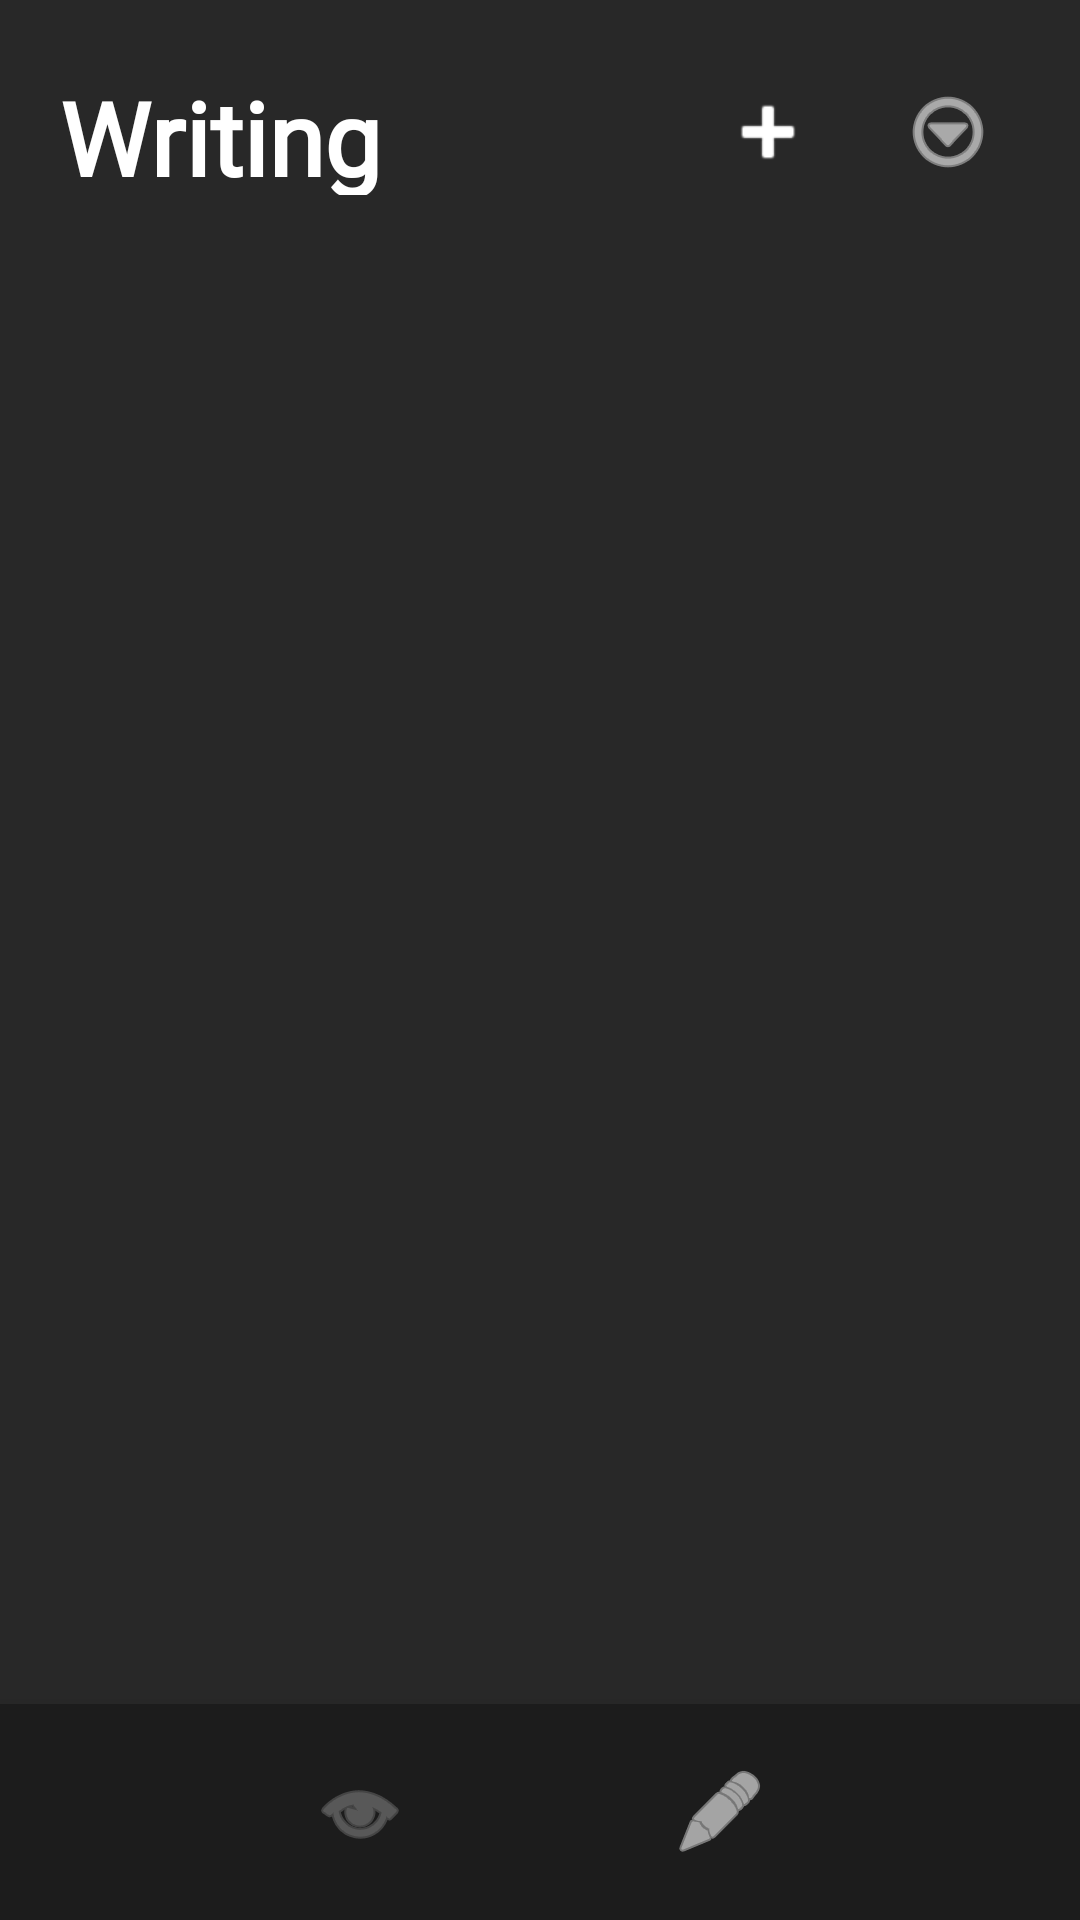

Locate icon controls on the screen. Image size 1080*1920, boxes as bbox=[x1, y1, x2, y2].
Add notebook: bbox=[741, 105, 795, 159]
More options: bbox=[912, 97, 984, 168]
Reading tab: bbox=[321, 1790, 399, 1839]
Writing tab: bbox=[679, 1771, 760, 1852]
